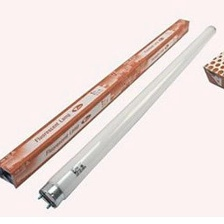book: (0, 17, 192, 190)
carton: (200, 45, 223, 89)
light_bulb: (35, 23, 217, 212)
